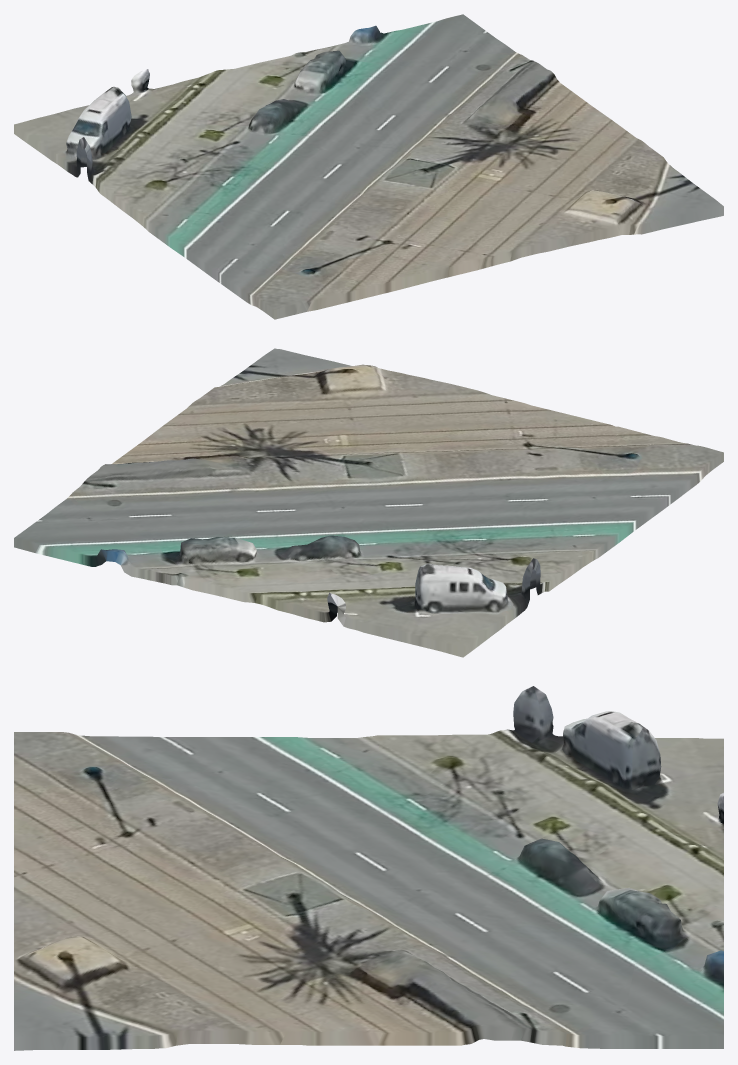
File: z20-167775-405202-h0-yup-uvflip-v3-world.glb
3 renders of one model, top to bottom at view 1: azimuth 30°, elevation 25°; view 2: azimuth 150°, elevation 25°; view 3: azimuth 270°, elevation 25°, orthographic. The views are drawn at different scales.
Size of the model in its own units: 30.16 by 3.52 by 30.32.
Materials: 1 (1 with a texture image).
